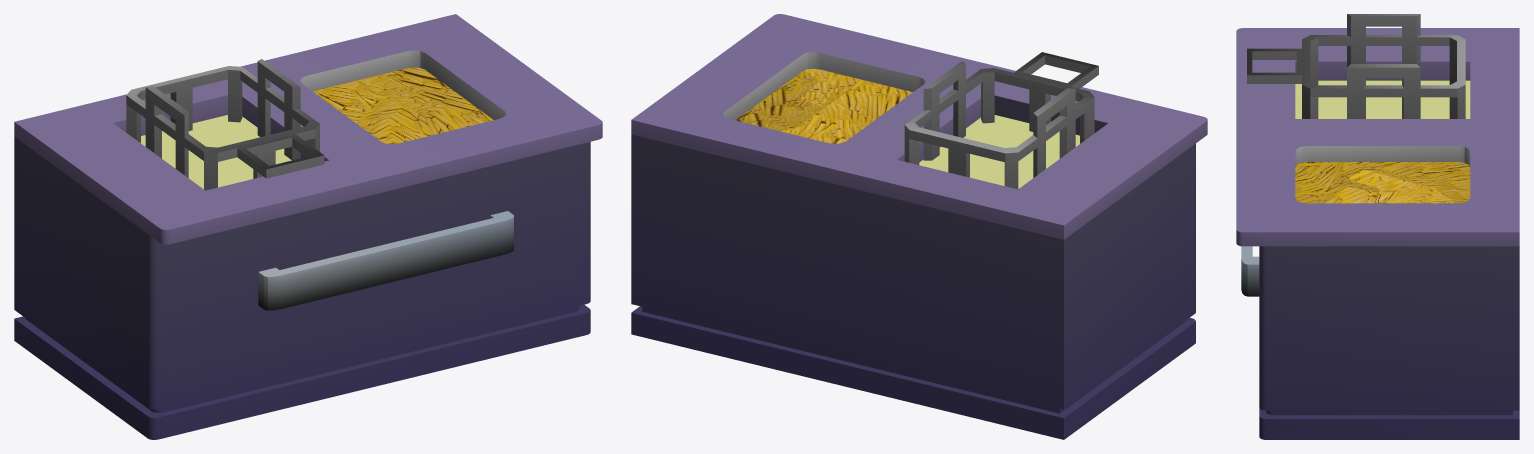
The model's file is Cupboard_French fries_1_Anim.fbx.
The picture shows the model from 3 angles, left to right: view 1: azimuth 30°, elevation 25°; view 2: azimuth 150°, elevation 25°; view 3: azimuth 270°, elevation 25°; orthographic projection. The views are drawn at different scales.
Parts seen in each view (by area): view 1: Cupboard.001, Cube.009; view 2: Cupboard.001, Cube.009; view 3: Cupboard.001, Cube.009.
Part boxes in pixels (<box>): Cupboard.001: <box>14,14,602,439</box>; Cube.009: <box>126,59,324,190</box>; Cupboard.001: <box>631,14,1207,439</box>; Cube.009: <box>904,52,1098,189</box>; Cupboard.001: <box>1236,28,1519,439</box>; Cube.009: <box>1247,14,1465,118</box>.
Size of the model in its own units: 1.82 by 1.08 by 1.07.
